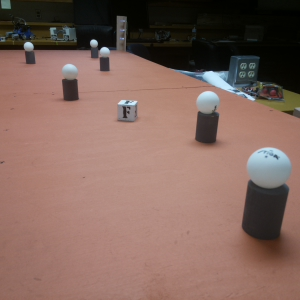obstacle: (240, 148, 291, 239), (193, 89, 219, 144), (61, 62, 76, 94), (98, 47, 112, 72), (23, 40, 35, 65), (89, 39, 100, 57)
